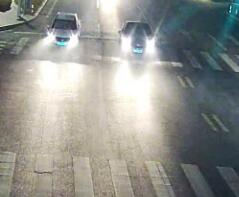car: (115, 18, 158, 59), (44, 9, 83, 50)
